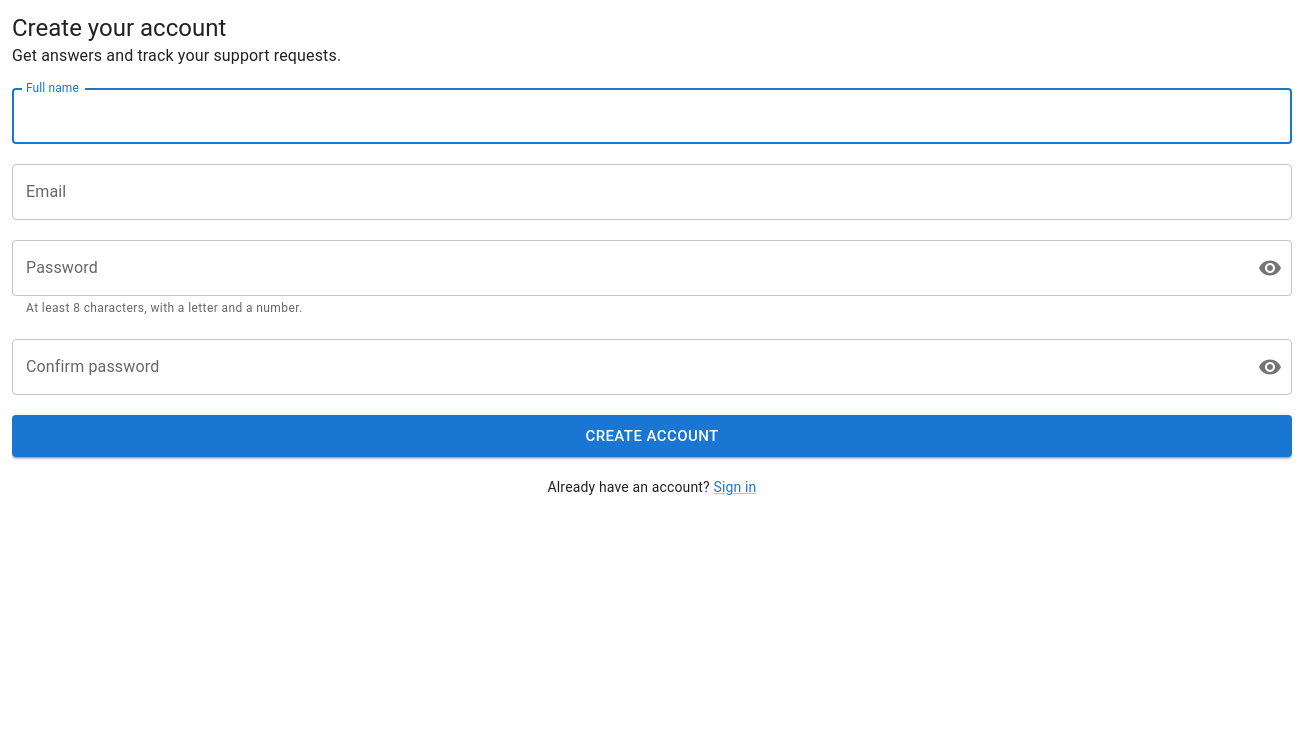
Register page › maps server-side validation errors onto the form fields
Step 1. Type "Casey Customer" into the field labelled "Full name" → (652, 116), box [12, 88, 1292, 144]
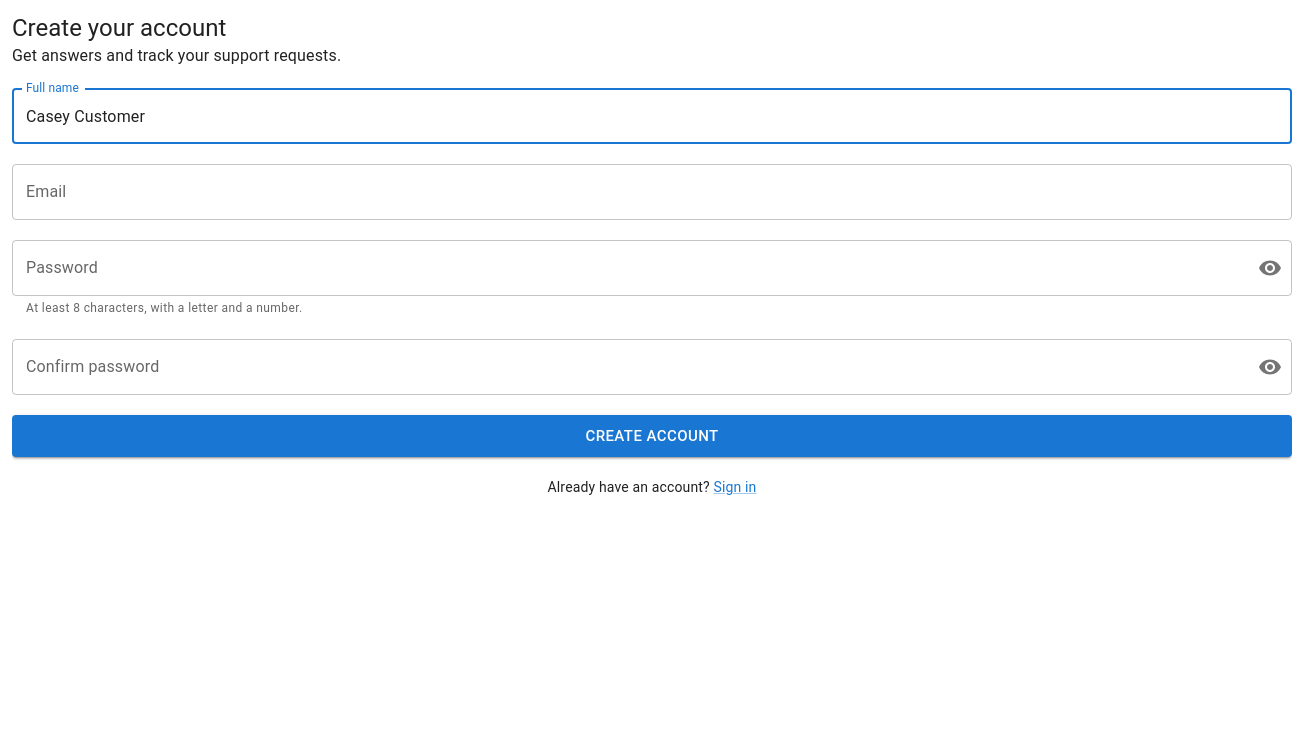
Step 2. Type "casey@example.com" into the field labelled "Email" → (652, 192), box [12, 164, 1292, 220]
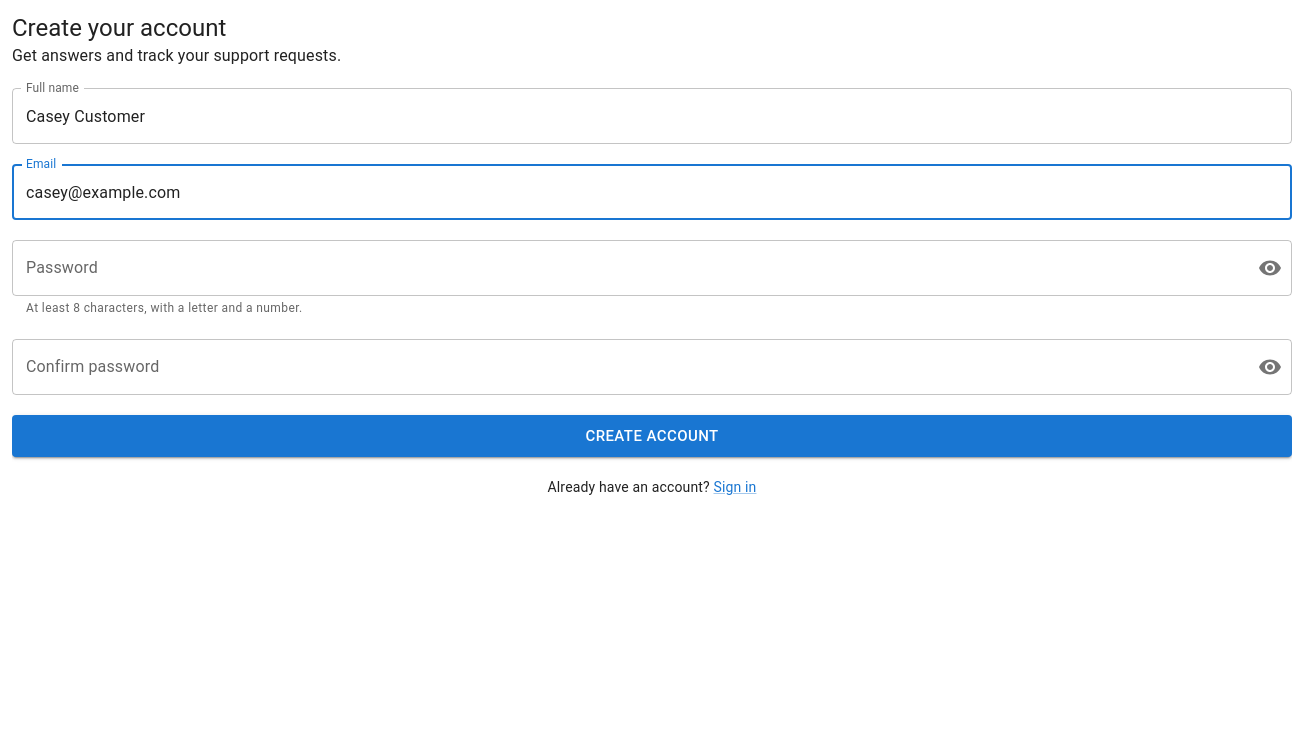
Step 3. Type "Password123" into the password field labelled "Password" → (627, 268), box [12, 240, 1242, 296]
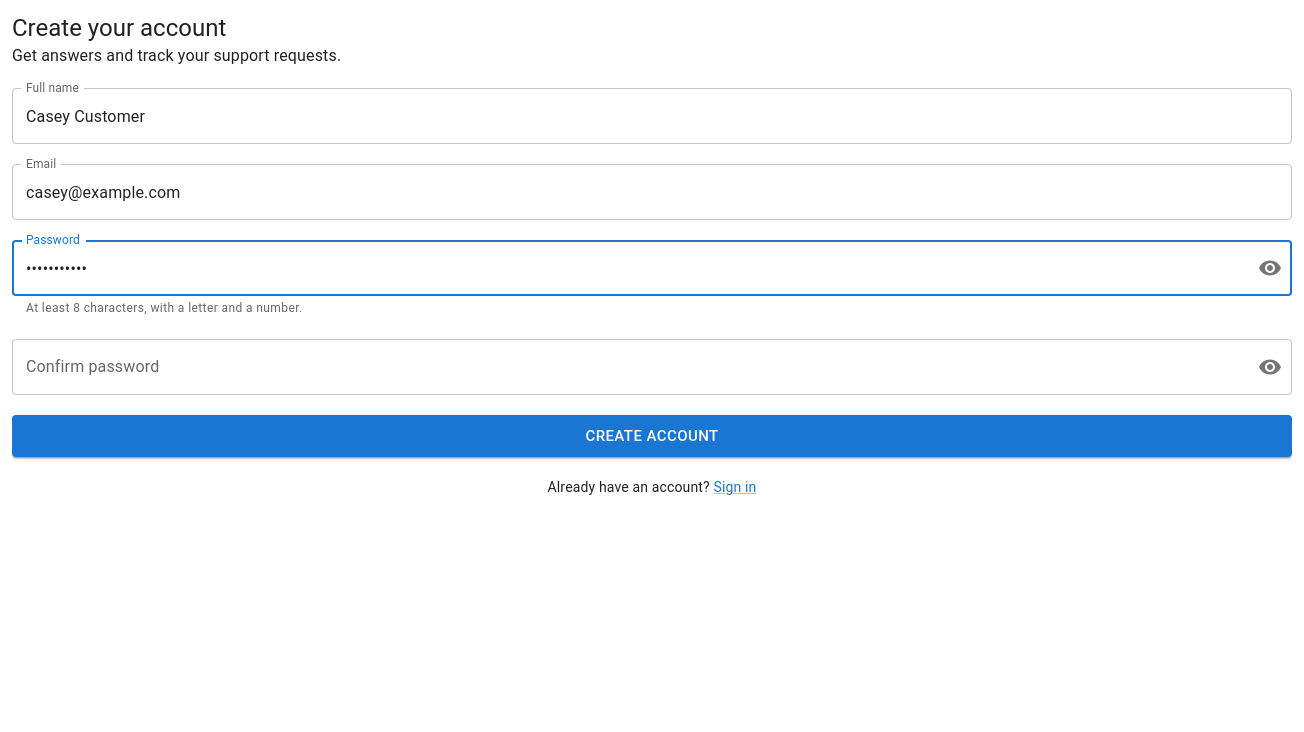
Step 4. Type "Password123" into the password field labelled "Confirm password" → (627, 367), box [12, 339, 1242, 395]
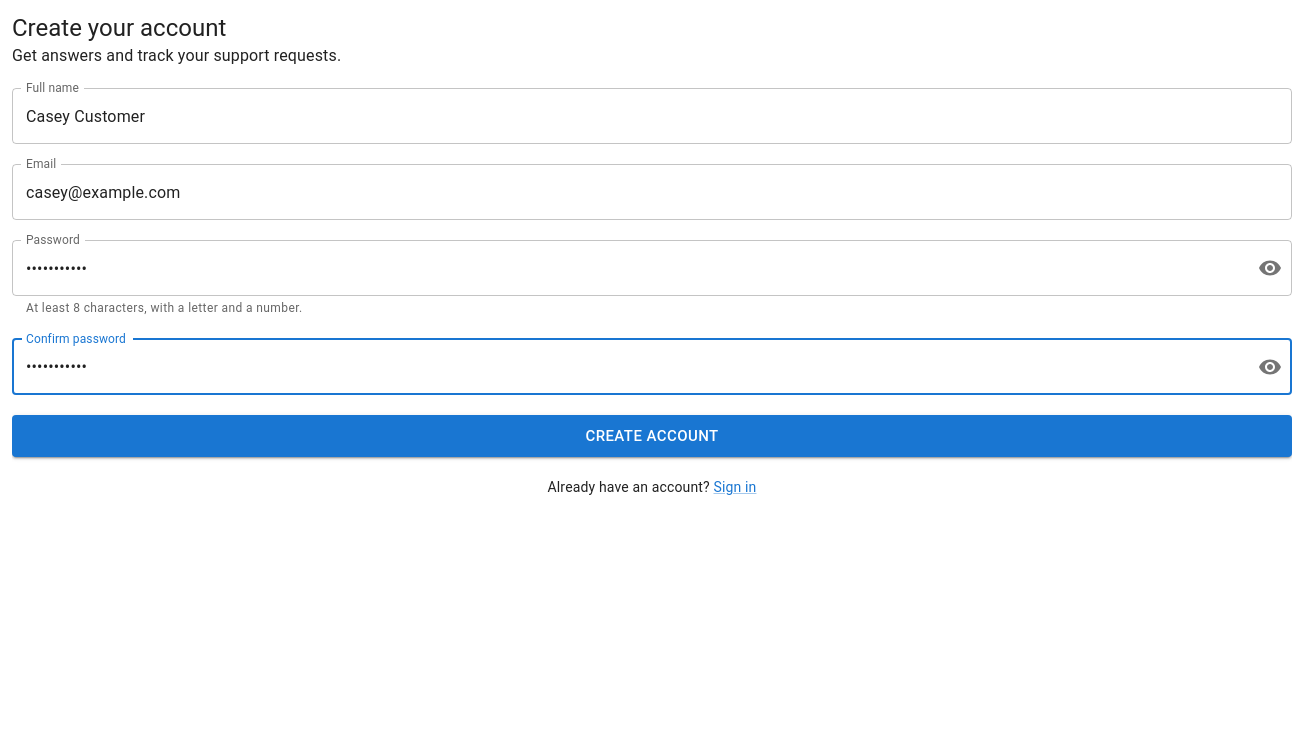
Step 5. Click the button "Create account" → (652, 436), box [12, 415, 1292, 457]
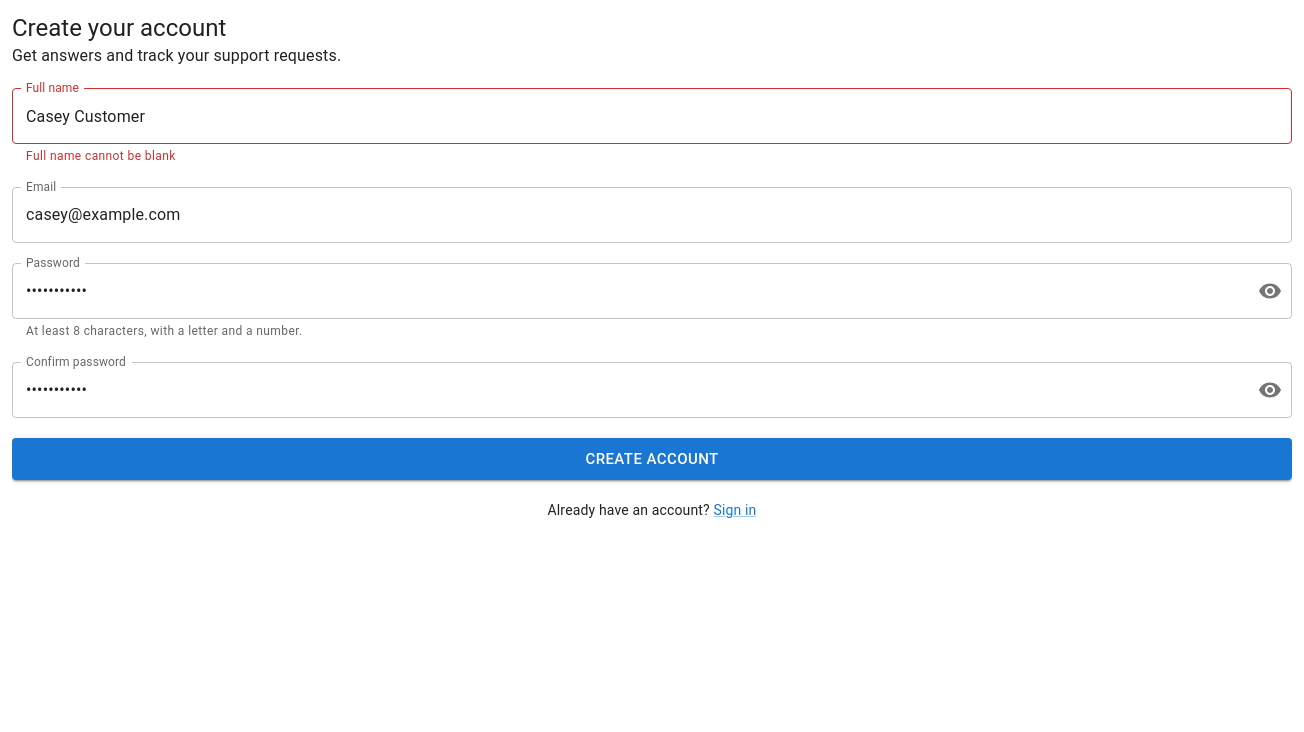
Expected: the text "Full name cannot be blank" is shown, [26, 149, 176, 163]
